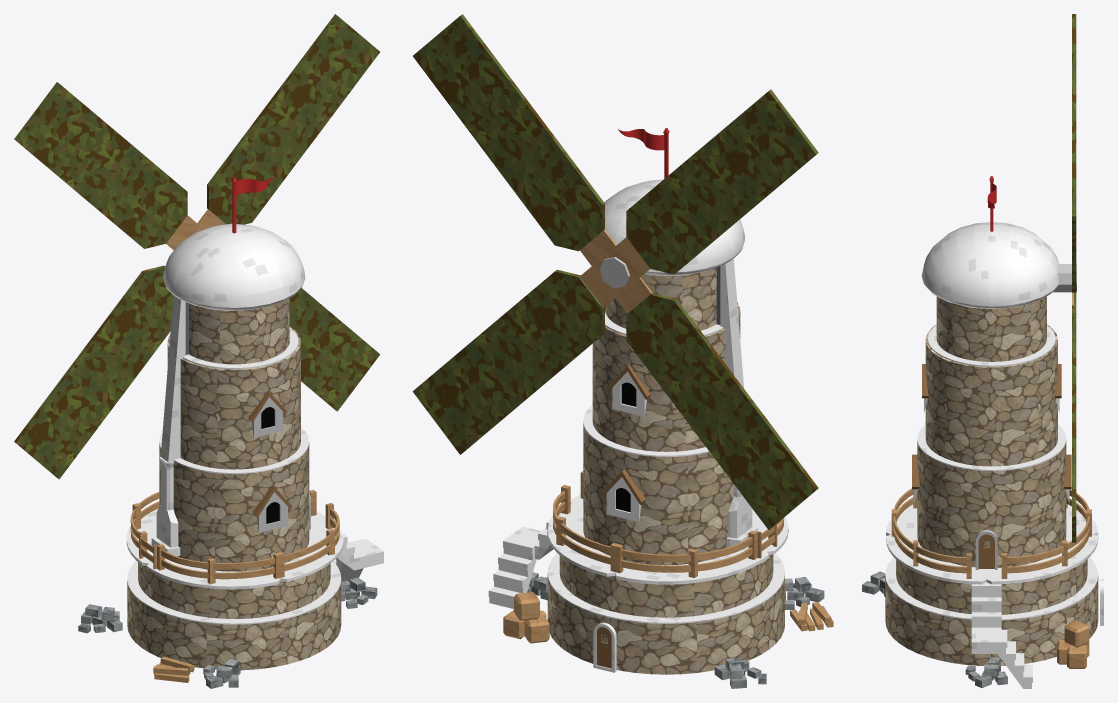
Rendered from mill.fbx.
3 views of the same model, side by side, from view 1: azimuth 30°, elevation 25°; view 2: azimuth 150°, elevation 25°; view 3: azimuth 270°, elevation 25° (orthographic). The views are drawn at different scales.
Visible parts, largest first — view 1: building_windmill_wings_88, sphere_dome_22, wall_borderCornerRound%_60, wall_cornerRound%_55, wall_cornerRound%_42, wall_cornerRound%_44, wall_borderCornerRound%_65, wall_cornerRound%_56, wall_borderCornerRound%_61, wall_edge_103, wall_cornerRound%_40, fence_woodRound%_50 (+19 smaller); view 2: building_windmill_wings_88, wall_cornerRound%_54, wall_cornerRound%_41, wall_cornerRound%_43, wall_borderCornerRound%_59, wall_cornerRound%_16, wall_borderCornerRound%_18, stairs_cornerStone%_69, sphere_dome_22, fence_woodRound%_49, wall_borderCornerRound%_64, wall_cornerRound%_31 (+18 smaller); view 3: sphere_dome_22, wall_cornerRound%_16, wall_borderCornerRound%_18, wall_borderCornerRound%_61, wall_cornerRound%_56, wall_cornerRound%_40, wall_cornerRound%_31, stairs_cornerStone%_69, wall_borderCornerRound%_21, wall_borderCornerRound%_66, building_windmill_wings_88, wall_cornerRound%_11 (+21 smaller).
Part boxes in pixels (x1,y1,x2,y2): building_windmill_wings_88: [14, 14, 379, 479]; sphere_dome_22: [163, 223, 305, 307]; wall_borderCornerRound%_60: [180, 358, 267, 469]; wall_cornerRound%_55: [173, 461, 271, 571]; wall_cornerRound%_42: [141, 602, 287, 670]; wall_cornerRound%_44: [151, 572, 282, 618]; wall_borderCornerRound%_65: [189, 303, 261, 364]; wall_cornerRound%_56: [271, 443, 309, 567]; wall_borderCornerRound%_61: [267, 328, 300, 465]; wall_edge_103: [160, 295, 185, 462]; wall_cornerRound%_40: [287, 581, 341, 664]; fence_woodRound%_50: [157, 544, 284, 584]; building_windmill_wings_88: [412, 14, 818, 529]; wall_cornerRound%_54: [625, 452, 733, 565]; wall_cornerRound%_41: [607, 599, 769, 674]; wall_cornerRound%_43: [613, 564, 758, 617]; wall_borderCornerRound%_59: [629, 328, 725, 451]; wall_cornerRound%_16: [583, 423, 624, 560]; wall_borderCornerRound%_18: [592, 326, 629, 447]; stairs_cornerStone%_69: [488, 519, 553, 608]; sphere_dome_22: [604, 179, 744, 272]; fence_woodRound%_49: [610, 530, 757, 577]; wall_borderCornerRound%_64: [641, 267, 716, 330]; wall_cornerRound%_31: [547, 575, 606, 663]; sphere_dome_22: [921, 222, 1059, 305]; wall_cornerRound%_16: [991, 441, 1066, 567]; wall_borderCornerRound%_18: [989, 340, 1057, 466]; wall_borderCornerRound%_61: [925, 340, 991, 466]; wall_cornerRound%_56: [917, 441, 991, 567]; wall_cornerRound%_40: [885, 577, 991, 665]; wall_cornerRound%_31: [991, 576, 1098, 665]; stairs_cornerStone%_69: [971, 582, 1032, 688]; wall_borderCornerRound%_21: [991, 296, 1046, 361]; wall_borderCornerRound%_66: [936, 296, 991, 361]; building_windmill_wings_88: [1072, 14, 1076, 542]; wall_cornerRound%_11: [1001, 559, 1087, 614].
Size of the model in its own units: 41.74 by 59.69 by 24.13.
